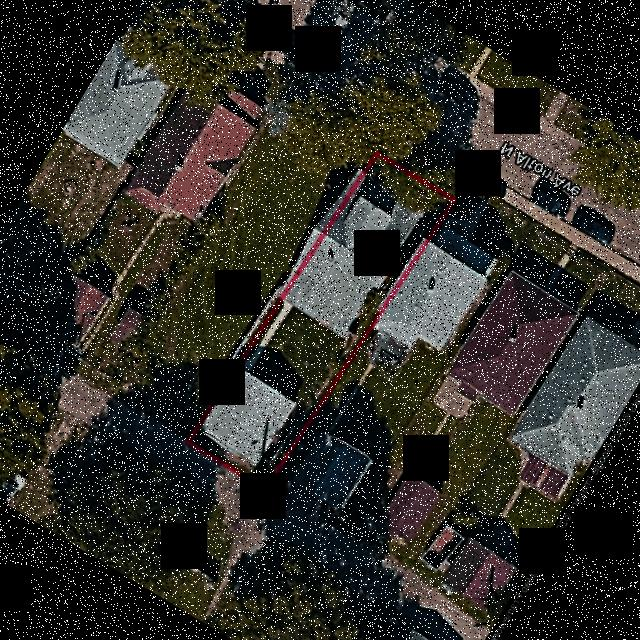Driveway: (240, 302, 292, 371), (217, 447, 256, 477)
Extra Sidewalk: (456, 162, 472, 177)
House: (284, 176, 422, 336)
Other: (200, 368, 295, 465)
